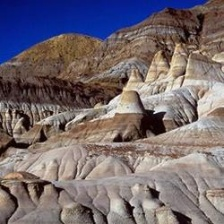neutral: (1, 8, 222, 208)
